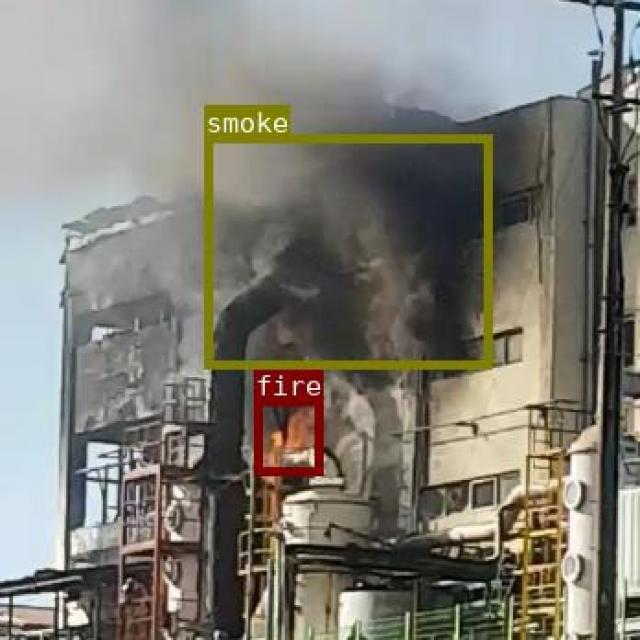fire: (253, 397, 321, 473)
smoke: (203, 133, 490, 367)
